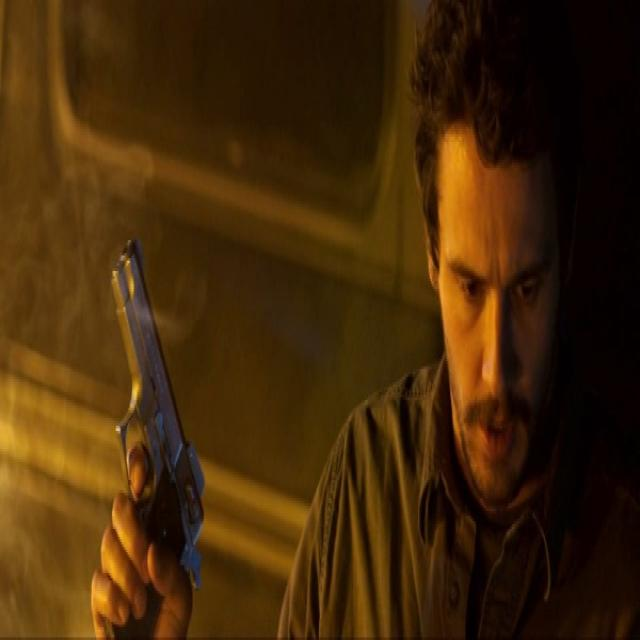weapons: (64, 180, 221, 640)
